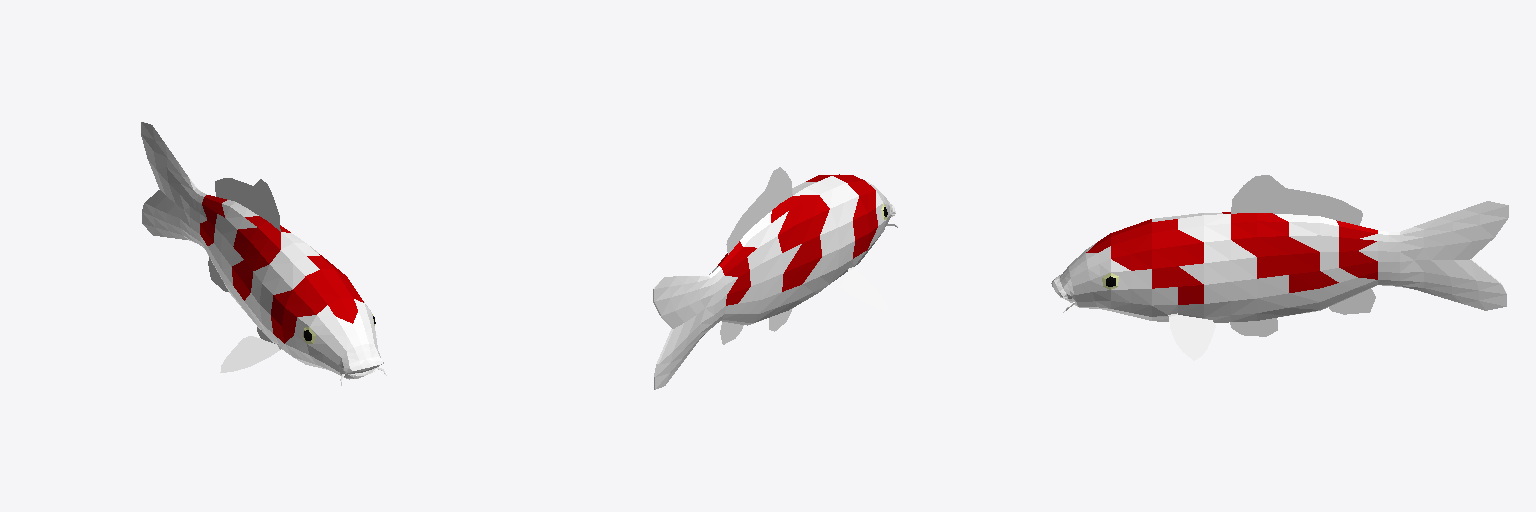
The model's file is fish.obj.
The picture shows the model from 3 angles: view 1: azimuth 30°, elevation 25°; view 2: azimuth 150°, elevation 25°; view 3: azimuth 270°, elevation 25°; orthographic projection.
Visible parts, largest first — view 1: Koi.002; view 2: Koi.002; view 3: Koi.002.
Part boxes in pixels (x1,y1,x2,y2): Koi.002: (141, 122, 386, 385); Koi.002: (653, 167, 897, 389); Koi.002: (1051, 175, 1508, 360).
Bounding box in the file's own units: 2.22 × 2.19 × 5.62.